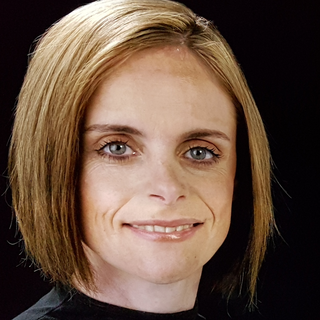eye: (92, 133, 141, 162), (176, 142, 222, 167)
